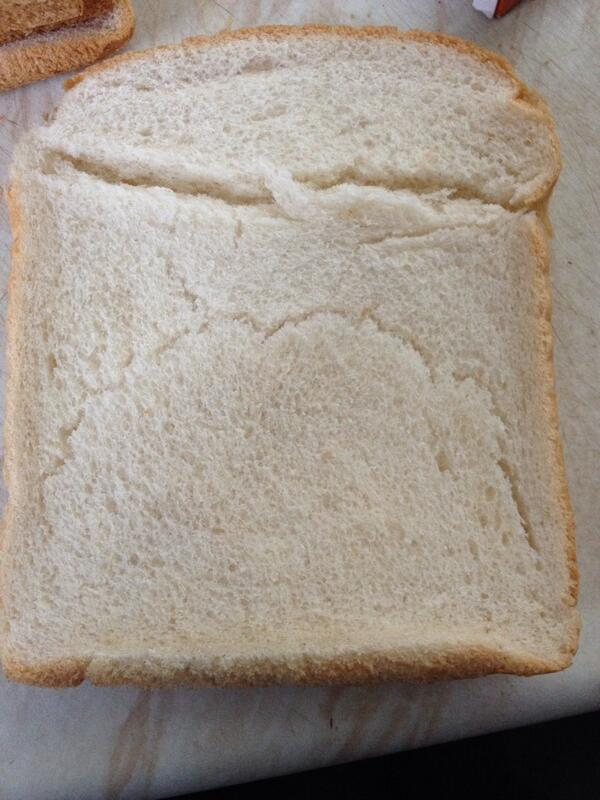slice of bread: (5, 62, 580, 678)
